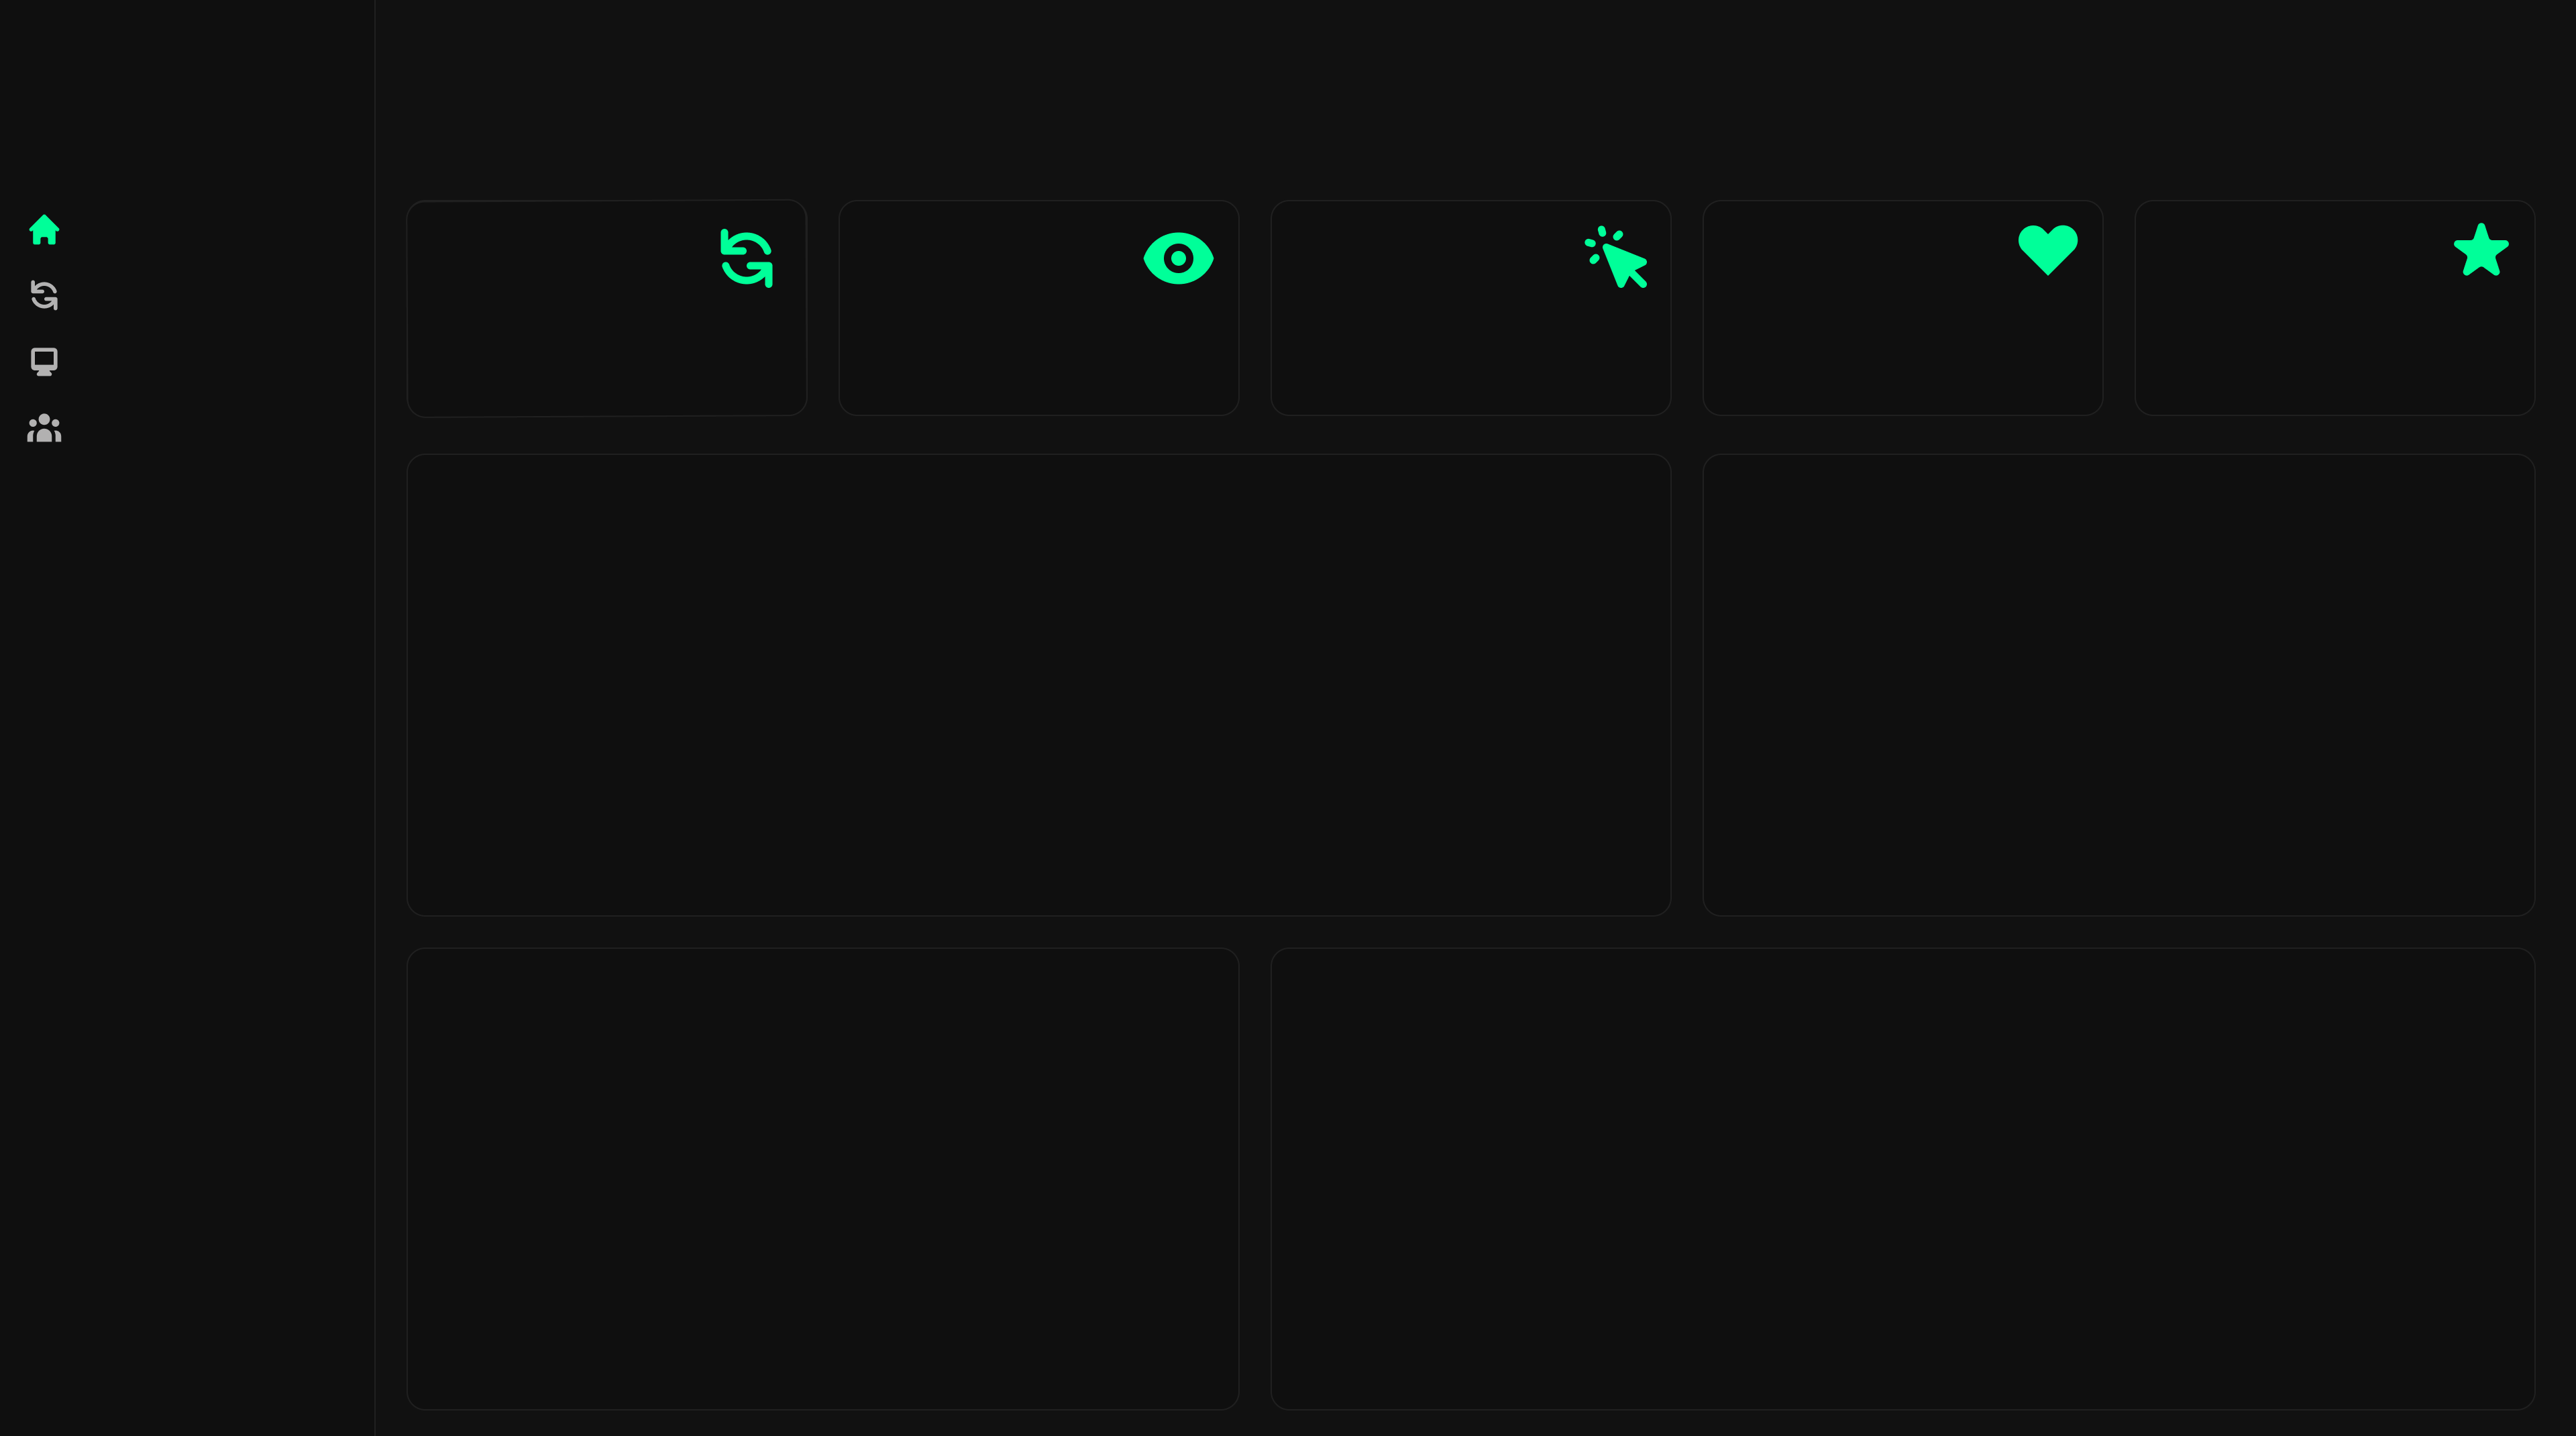

The page's visual inventory and layout, read from the dashboard file:
{"tool":"powerbi","page":{"name":"Overview","canvas":[1280,720],"ordinal":0},"visuals":[{"type":"cardVisual","fields":{"Data":["_Calculations.Views"]},"box":[426.3,95.4,127,78.1],"z":0},{"type":"lineChart","fields":{"Y":["_Calculations.Conversion Rate"],"Category":["Calendar.MonthNameShort"]},"box":[211.6,238.4,619.9,210.9],"z":1000},{"type":"clusteredColumnChart","title":"Popular Products via Clicks","fields":{"Category":["DIM_products.ProductName"],"Y":["Sum(FACT_engagement_data.Clicks)"]},"box":[640.4,487.3,615.7,213],"z":2000},{"type":"funnel","fields":{"Y":["_Calculations.Views","_Calculations.Clicks","_Calculations.Likes"]},"box":[856.3,238.6,394.1,212.5],"z":3000},{"type":"columnChart","fields":{"Category":["Calendar.MonthNameShort"],"Y":["_Calculations.Rating (Average)"]},"box":[211.9,487,395.3,211.3],"z":4000},{"type":"cardVisual","fields":{"Data":["_Calculations.Conversion Rate"]},"box":[211.3,95.4,127,78.1],"z":5000},{"type":"cardVisual","fields":{"Data":["_Calculations.Clicks"]},"box":[640,95.7,127.4,78.6],"z":6000},{"type":"cardVisual","fields":{"Data":["_Calculations.Likes"]},"box":[856.1,95.7,126.7,78.6],"z":7000},{"type":"cardVisual","fields":{"Data":["_Calculations.Rating (Average)"]},"box":[1068.4,95.7,127.4,78.6],"z":8000},{"type":"cardVisual","fields":{"Data":["_Calculations.Diff Last Year Views"]},"box":[485,159.3,127,48],"z":9000},{"type":"cardVisual","fields":{"Data":["_Calculations.Diff Last Year Clicks"]},"box":[698.9,159.4,127.6,48],"z":10000},{"type":"cardVisual","fields":{"Data":["_Calculations.Diff Last Year Likes"]},"box":[914,159.4,127.6,48],"z":11000},{"type":"cardVisual","fields":{"Data":["_Calculations.Diff Last Year Rating"]},"box":[1129.1,159.4,126.9,48.7],"z":12000},{"type":"advancedSlicerVisual","fields":{"Values":["DIM_products.ProductName"]},"box":[15.2,273.6,157.5,439],"z":13000},{"type":"textbox","box":[198.4,26.4,299.5,47.6],"z":14000},{"type":"textbox","box":[5.7,241.3,174.3,31.7],"z":15000},{"type":"pageNavigator","box":[5.6,102,174.2,131],"z":16000},{"type":"cardVisual","fields":{"Data":["_Calculations.Diff Last Year Conversion"]},"box":[299.4,159.3,98.1,48],"z":17000},{"type":"image","box":[150.2,241.6,29.8,29.8],"z":19000},{"type":"advancedSlicerVisual","fields":{"Values":["Calendar.Year"]},"box":[523.8,31.1,193.5,38.9],"z":20000},{"type":"advancedSlicerVisual","fields":{"Values":["Calendar.MonthNameShort"]},"box":[732.8,31.1,542.5,38.7],"z":21000},{"type":"shape","box":[694.7,36.7,60.8,28.3],"z":22000},{"type":"image","box":[7.8,7.1,60.7,62.8],"z":23000},{"type":"textbox","box":[68.1,9.5,112,57.8],"z":24000}]}

Visuals, with their boxes on the page's 1280x720 design canvas (x1, y1, x2, y2). These are canvas units, not pixel positions in the 2576x1436 screenshot, which may show the page scaled, cropped or inside an application window:
cardVisual - _Calculations.Views: l=426, t=95, r=553, b=174
lineChart - _Calculations.Conversion Rate x Calendar.MonthNameShort: l=212, t=238, r=832, b=449
"Popular Products via Clicks" clusteredColumnChart: l=640, t=487, r=1256, b=700
funnel - _Calculations.Views x _Calculations.Clicks: l=856, t=239, r=1250, b=451
columnChart - Calendar.MonthNameShort x _Calculations.Rating (Average): l=212, t=487, r=607, b=698
cardVisual - _Calculations.Conversion Rate: l=211, t=95, r=338, b=174
cardVisual - _Calculations.Clicks: l=640, t=96, r=767, b=174
cardVisual - _Calculations.Likes: l=856, t=96, r=983, b=174
cardVisual - _Calculations.Rating (Average): l=1068, t=96, r=1196, b=174
cardVisual - _Calculations.Diff Last Year Views: l=485, t=159, r=612, b=207
cardVisual - _Calculations.Diff Last Year Clicks: l=699, t=159, r=826, b=207
cardVisual - _Calculations.Diff Last Year Likes: l=914, t=159, r=1042, b=207
cardVisual - _Calculations.Diff Last Year Rating: l=1129, t=159, r=1256, b=208
advancedSlicerVisual - DIM_products.ProductName: l=15, t=274, r=173, b=713
textbox: l=198, t=26, r=498, b=74
textbox: l=6, t=241, r=180, b=273
pageNavigator: l=6, t=102, r=180, b=233
cardVisual - _Calculations.Diff Last Year Conversion: l=299, t=159, r=398, b=207
image: l=150, t=242, r=180, b=271
advancedSlicerVisual - Calendar.Year: l=524, t=31, r=717, b=70
advancedSlicerVisual - Calendar.MonthNameShort: l=733, t=31, r=1275, b=70
shape: l=695, t=37, r=756, b=65
image: l=8, t=7, r=68, b=70
textbox: l=68, t=10, r=180, b=67
